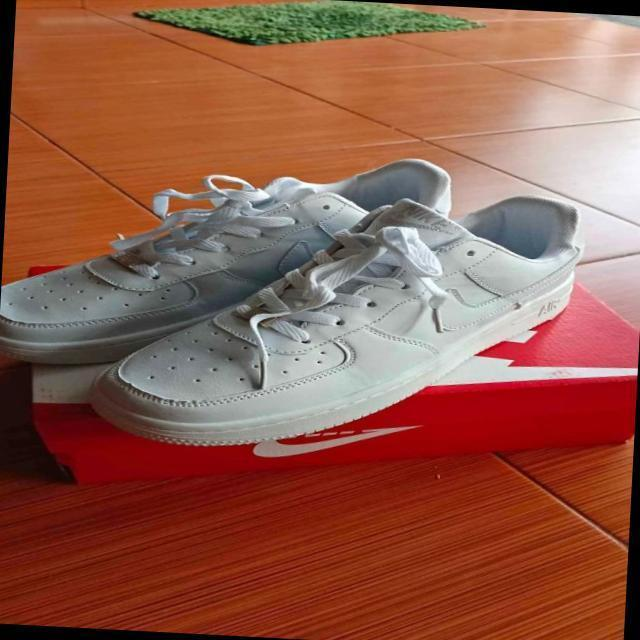nike fake air force: (61, 176, 630, 467), (0, 144, 496, 394)
